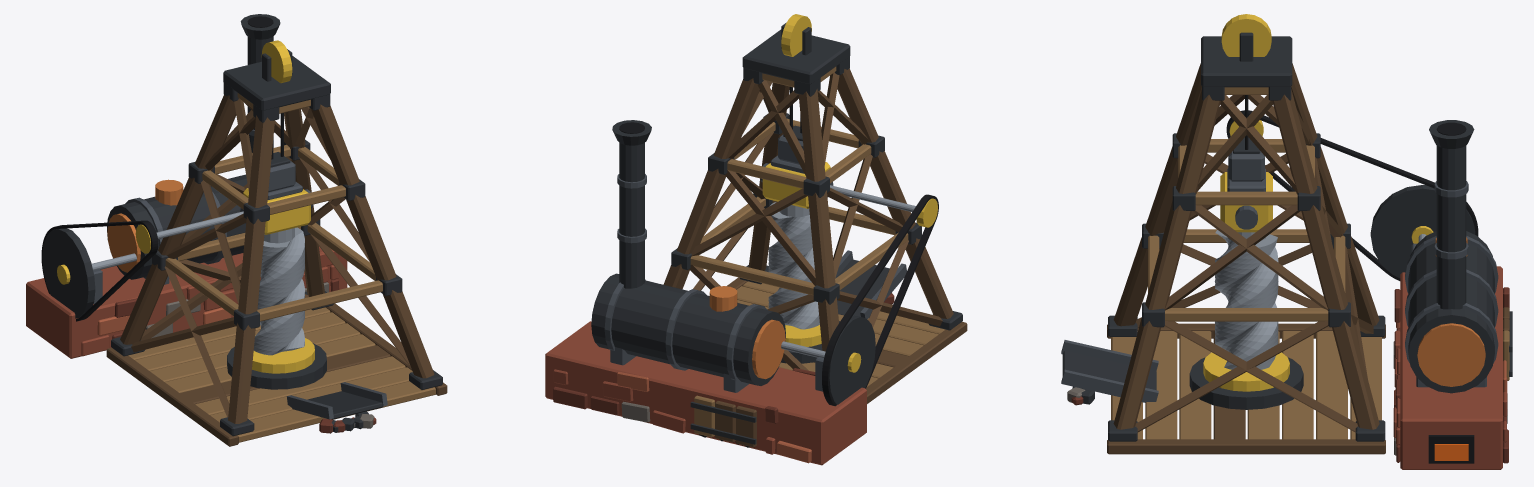
File: foreuse_t1.glb
3 renders of one model, left to right at view 1: azimuth 30°, elevation 25°; view 2: azimuth 150°, elevation 25°; view 3: azimuth 270°, elevation 25°, orthographic. The views are drawn at different scales.
Visible parts, largest first — view 1: pieces_bois_sombre.002, pieces_bois.002, pieces_fonte.007, socle_briques.002, foret_corps.006, volant.002, tete.002, chaudiere.002, collier.004, pieces_acier_sombre.008, courroie.002, foret_table.002 (+11 smaller); view 2: pieces_bois_sombre.002, socle_briques.002, chaudiere.002, pieces_bois.002, pieces_fonte.007, foret_corps.006, tete.002, courroie.002, volant.002, pieces_acier_sombre.008, chaudiere_fond_-0.002, pieces_brique_sombre.005 (+11 smaller); view 3: pieces_bois_sombre.002, pieces_bois.002, pieces_fonte.007, socle_briques.002, chaudiere.002, foret_corps.006, volant.002, tete.002, chaudiere_fond_1.002, pieces_acier_sombre.008, collier.004, foret_table.002 (+12 smaller).
Part boxes in pixels (x1,y1,x2,y2): pieces_bois_sombre.002: (106,95,447,446); pieces_bois.002: (128,93,435,442); pieces_fonte.007: (111,36,442,436); socle_briques.002: (26,246,347,358); foret_corps.006: (253,227,304,355); volant.002: (42,228,95,318); tete.002: (223,56,330,110); chaudiere.002: (107,174,247,279); collier.004: (227,343,326,389); pieces_acier_sombre.008: (93,129,387,419); courroie.002: (41,220,158,321); foret_table.002: (252,335,314,373); pieces_bois_sombre.002: (663,68,967,447); socle_briques.002: (545,321,866,465); chaudiere.002: (591,273,785,385); pieces_bois.002: (690,66,945,437); pieces_fonte.007: (619,22,962,444); foret_corps.006: (768,202,819,329); tete.002: (742,29,850,84); courroie.002: (822,194,938,406); volant.002: (829,315,875,404); pieces_acier_sombre.008: (610,174,906,392); chaudiere_fond_-0.002: (752,319,785,379); pieces_brique_sombre.005: (553,293,894,423); pieces_bois_sombre.002: (1107,63,1509,454); pieces_bois.002: (1111,87,1509,439); pieces_fonte.007: (1062,32,1512,441); socle_briques.002: (1400,266,1502,469); chaudiere.002: (1408,231,1494,393); foret_corps.006: (1214,230,1278,369); volant.002: (1370,185,1475,277); tete.002: (1201,36,1292,87); chaudiere_fond_1.002: (1417,323,1485,386); pieces_acier_sombre.008: (1061,181,1486,402); collier.004: (1189,357,1303,409); foret_table.002: (1203,352,1289,391).
Size of the model in its own units: 2.01 by 2.23 by 2.5.
